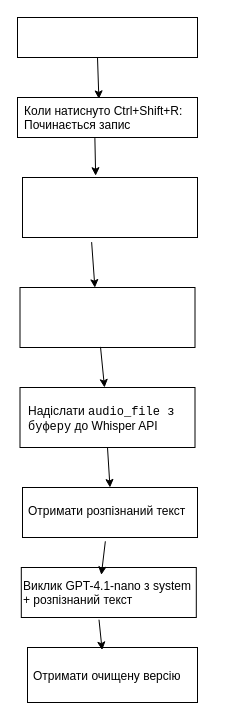
This 234x720 diagram has some shape labels left out. The shapes that lost their labels are listed below. From the top down, each one's box as (x1, y1, x2, y2) in pixels, then its label:
(16, 16, 198, 58): Start
(22, 176, 198, 238): Коли натиснуто ще раз Ctrl+Shift+R: Закінчується запис
(19, 286, 195, 348): Зберігається до буферу
